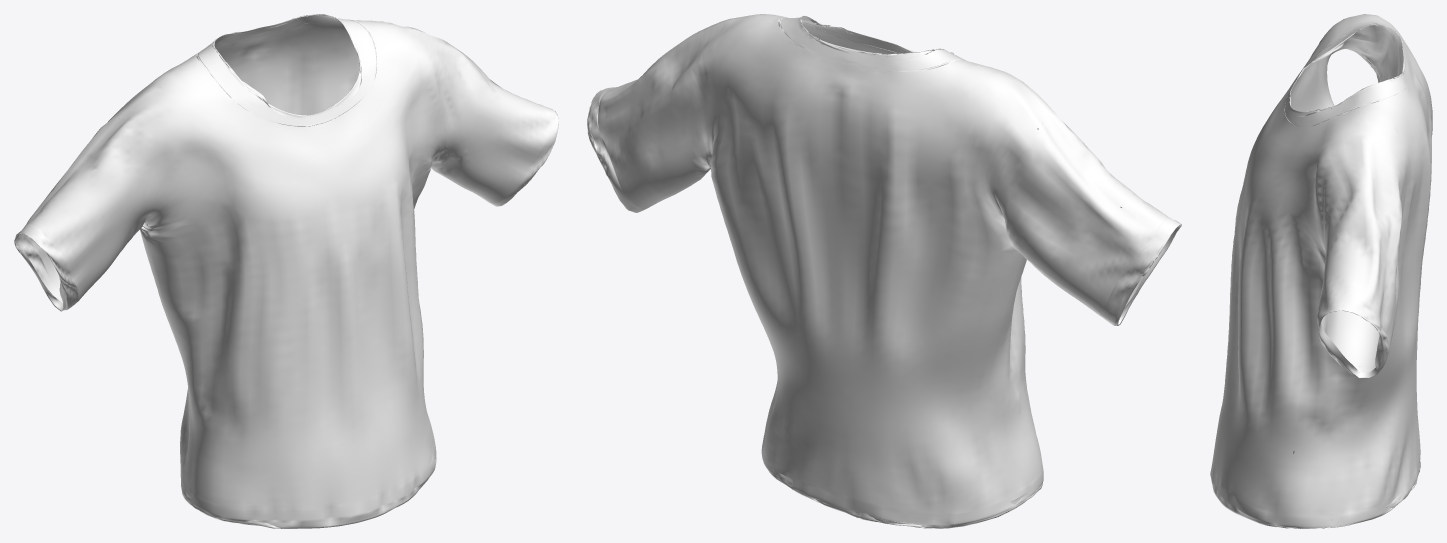
File: Petite_Tshirt_S.glb
3 views of the same model, side by side, from view 1: azimuth 30°, elevation 25°; view 2: azimuth 150°, elevation 25°; view 3: azimuth 270°, elevation 25° (orthographic). The views are drawn at different scales.
Visible parts, largest first — view 1: TShirt_for_Genesis.008; view 2: TShirt_for_Genesis.008; view 3: TShirt_for_Genesis.008.
Boxes of the visible parts, bbox=[...] form: TShirt_for_Genesis.008: bbox=[14, 14, 558, 528]; TShirt_for_Genesis.008: bbox=[587, 14, 1181, 528]; TShirt_for_Genesis.008: bbox=[1210, 14, 1432, 528].
Size of the model in its own units: 15.38 by 11.98 by 5.61.
Materials: 1 (1 with a texture image).
